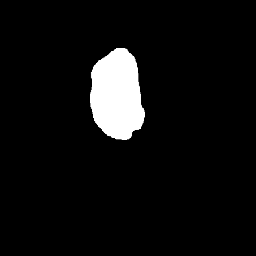mass: (89, 57, 143, 149)
